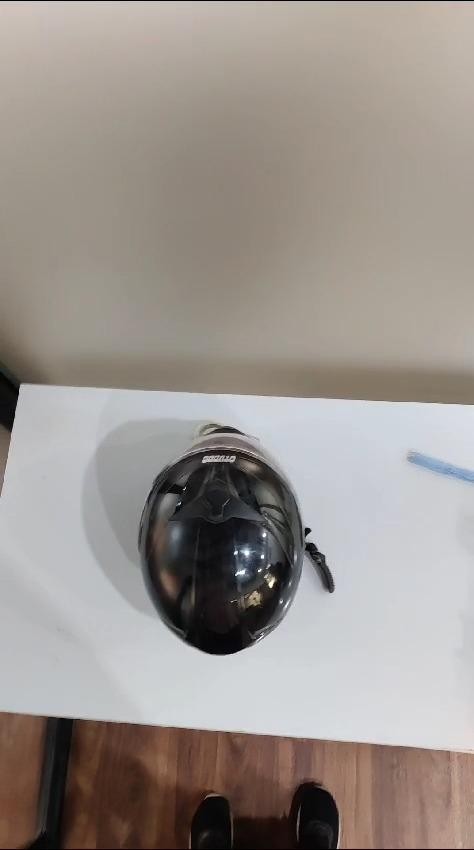Helmet: (123, 420, 333, 655), (139, 423, 333, 653)
